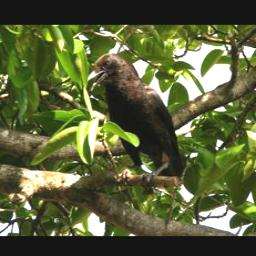Crow: (83, 50, 186, 187)
